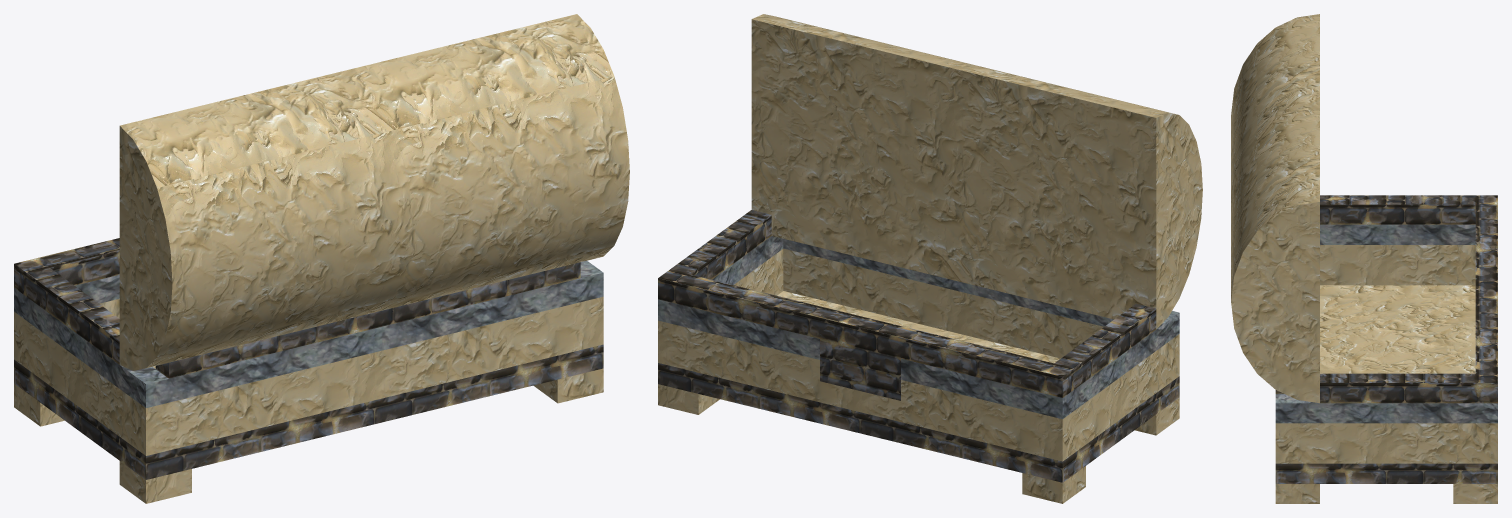
Rendered from StorageChestOpen.fbx.
The picture shows the model from 3 angles, left to right: view 1: azimuth 30°, elevation 25°; view 2: azimuth 150°, elevation 25°; view 3: azimuth 270°, elevation 25°; orthographic projection. The views are drawn at different scales.
Parts seen in each view (by area): view 1: cylinder_half_5, block_default_34, block_default_14, block_default_8, block_default_27, block_default_36, block_default_29, block_default_15, block_default_31, block_default_38, block_default_2, block_default_1 (+2 smaller); view 2: cylinder_half_5, block_default_15, block_default_34, block_default_26, block_default_37, block_default_36, block_default_24, block_default_18, block_default_14, block_default_25, block_default_17, block_default_23 (+10 smaller); view 3: cylinder_half_5, block_default_40, block_default_35, block_default_36, block_default_28, block_default_15, block_default_29, block_default_30, block_default_39, block_default_31, block_default_34, block_default_0 (+7 smaller).
Part boxes in pixels (x1,y1,x2,y2): cylinder_half_5: [119, 14, 629, 370]; block_default_34: [133, 296, 603, 455]; block_default_14: [133, 263, 603, 407]; block_default_8: [133, 344, 603, 479]; block_default_27: [155, 262, 580, 378]; block_default_36: [27, 321, 132, 446]; block_default_29: [27, 268, 119, 364]; block_default_15: [14, 238, 119, 296]; block_default_31: [27, 297, 154, 398]; block_default_38: [27, 369, 132, 469]; block_default_2: [119, 461, 191, 503]; block_default_1: [533, 368, 603, 403]; cylinder_half_5: [751, 14, 1202, 328]; block_default_15: [658, 270, 1074, 397]; block_default_34: [783, 248, 1179, 384]; block_default_26: [658, 342, 1074, 461]; block_default_37: [658, 363, 1074, 482]; block_default_36: [1074, 342, 1167, 452]; block_default_24: [901, 380, 1074, 440]; block_default_18: [901, 358, 1074, 419]; block_default_14: [783, 239, 1179, 341]; block_default_25: [658, 320, 819, 380]; block_default_17: [658, 299, 819, 359]; block_default_23: [820, 339, 900, 400]; cylinder_half_5: [1231, 14, 1319, 403]; block_default_40: [1320, 285, 1475, 373]; block_default_35: [1297, 423, 1475, 463]; block_default_36: [1320, 245, 1475, 285]; block_default_28: [1320, 373, 1475, 403]; block_default_15: [1475, 195, 1497, 403]; block_default_29: [1320, 195, 1475, 224]; block_default_30: [1297, 400, 1475, 423]; block_default_39: [1297, 463, 1475, 483]; block_default_31: [1320, 224, 1475, 244]; block_default_34: [1275, 423, 1297, 463]; block_default_0: [1453, 484, 1497, 503].
Bounding box in the file's own units: 20 × 15 × 12.
3 materials, 3 textured.
